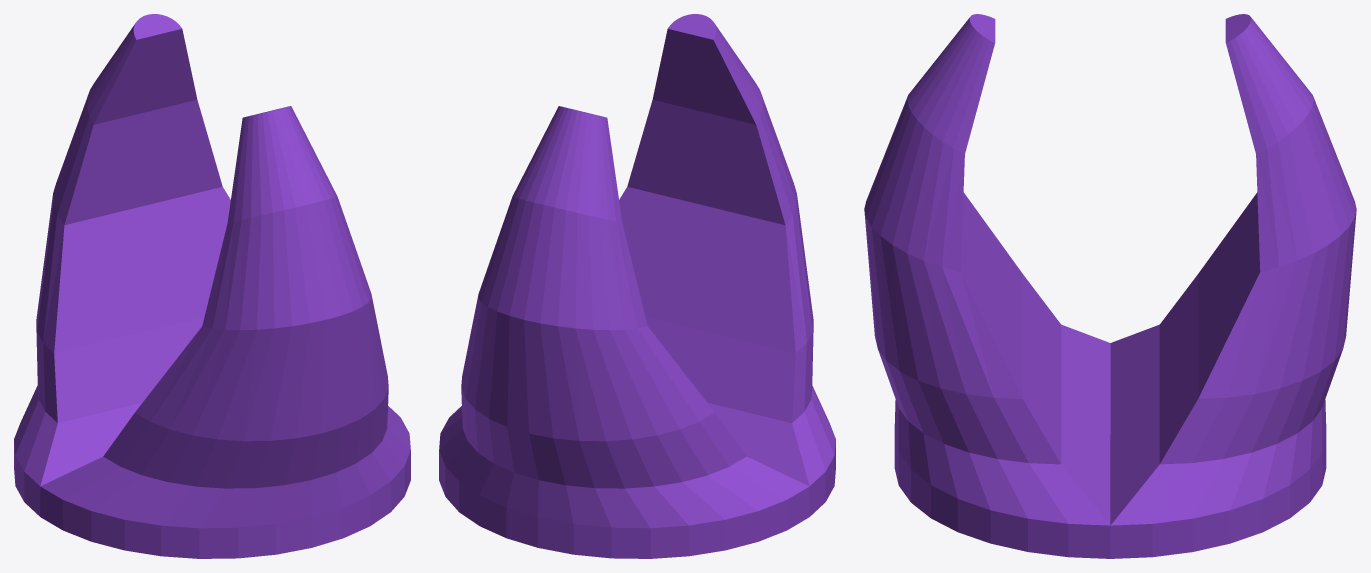
3 views of the same model, side by side, from view 1: azimuth 30°, elevation 25°; view 2: azimuth 150°, elevation 25°; view 3: azimuth 270°, elevation 25° (orthographic). The views are drawn at different scales.
Visible parts, largest first — view 1: link_6_000; view 2: link_6_000; view 3: link_6_000.
Boxes of the visible parts, x1,y1,x2,y2 form: link_6_000: (14,14,410,558); link_6_000: (439,14,835,558); link_6_000: (864,14,1356,558).
Size of the model in its own units: 8 by 9.12 by 9.17.
